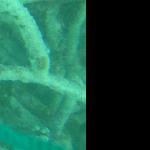dead: (1, 1, 84, 146)
